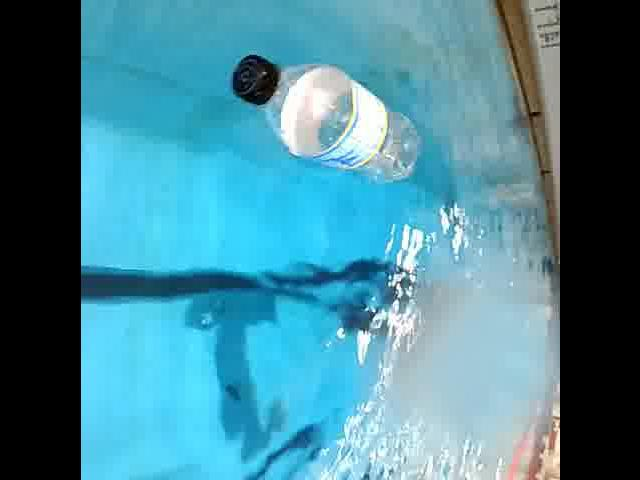Bottle: (221, 48, 425, 188)
